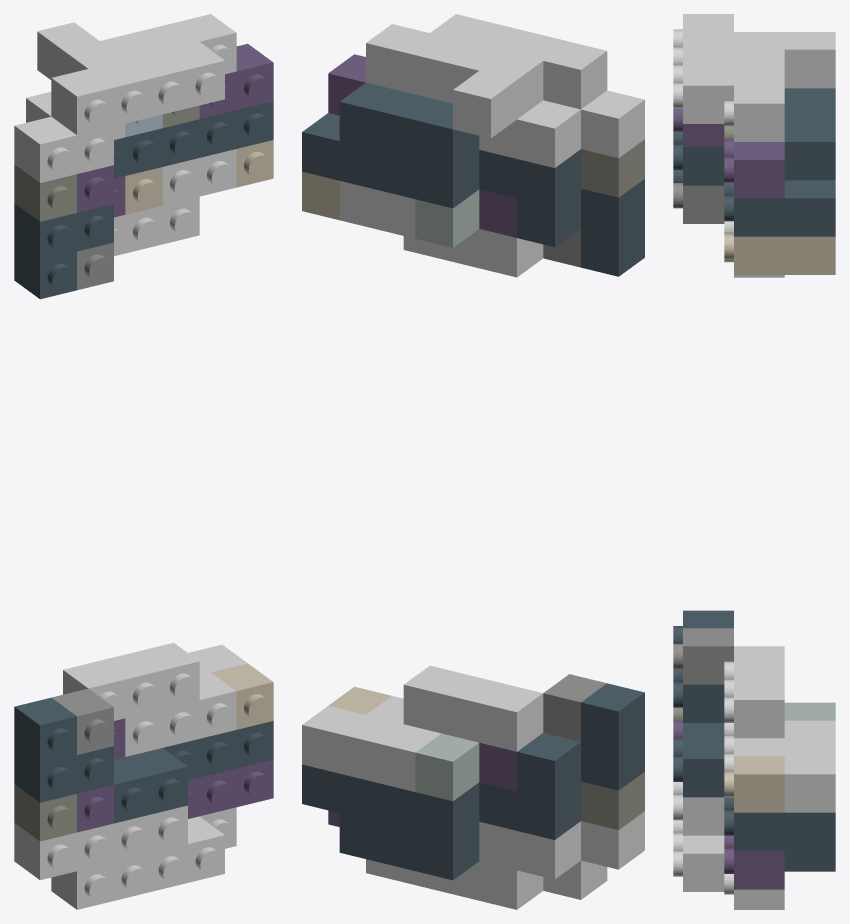
Rendered from full.glb.
3 renders of one model, left to right at view 1: azimuth 30°, elevation 25°; view 2: azimuth 150°, elevation 25°; view 3: azimuth 270°, elevation 25°, orthographic. The views are drawn at different scales.
Visible parts, largest first — view 1: world; view 2: world; view 3: world.
Boxes of the visible parts, x1,y1,x2,y2 form: world: (14, 14, 273, 909); world: (302, 14, 644, 909); world: (673, 14, 835, 909).
Bounding box in the file's own units: 56 × 168 × 30.6.
